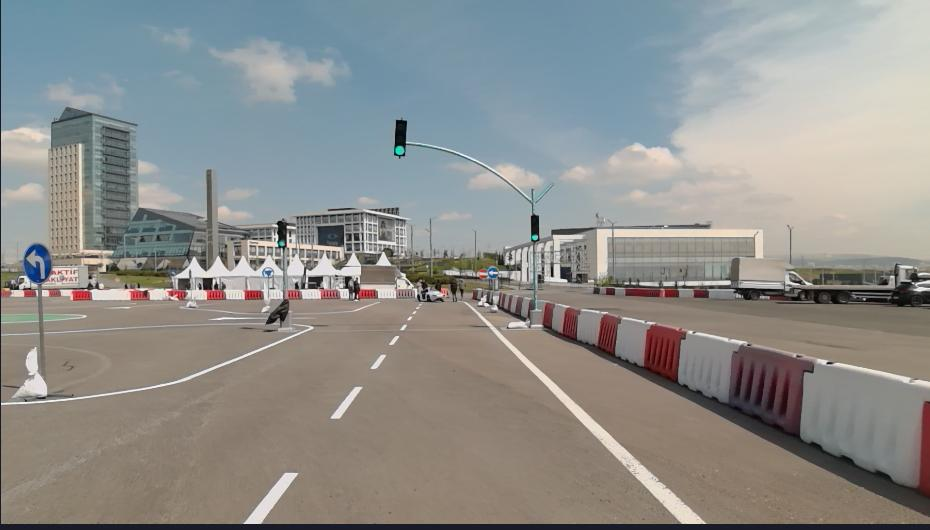nesne: (0, 297, 703, 529), (238, 298, 702, 526), (0, 299, 424, 529), (542, 302, 927, 501), (463, 299, 704, 525), (0, 322, 314, 405), (799, 356, 926, 483), (408, 140, 555, 213), (725, 337, 807, 437), (676, 327, 736, 401), (810, 263, 928, 298), (14, 346, 76, 402), (730, 256, 809, 298), (242, 468, 297, 526), (643, 321, 683, 382), (612, 317, 650, 368), (912, 382, 928, 499), (71, 288, 187, 300), (22, 244, 53, 284), (328, 384, 362, 418), (595, 314, 620, 359), (576, 311, 605, 346), (357, 284, 418, 299), (195, 287, 265, 300), (899, 276, 929, 305), (264, 298, 293, 324), (663, 288, 742, 297), (37, 282, 44, 383), (392, 118, 408, 158), (550, 304, 568, 339), (564, 308, 580, 342), (90, 289, 131, 301), (531, 240, 537, 301), (281, 246, 288, 298), (528, 213, 540, 243), (414, 275, 427, 300), (428, 284, 444, 304), (707, 288, 739, 298), (276, 218, 287, 246), (510, 318, 535, 330), (280, 311, 294, 332), (530, 306, 544, 326), (348, 276, 360, 299), (370, 352, 387, 368), (625, 287, 659, 295), (449, 276, 459, 303), (130, 288, 148, 302), (544, 304, 554, 329), (148, 289, 166, 302), (300, 288, 321, 299), (71, 289, 90, 301), (378, 286, 397, 298), (676, 287, 694, 299), (166, 290, 187, 300), (206, 290, 225, 301), (245, 288, 264, 299), (226, 289, 246, 299), (507, 294, 517, 314), (514, 297, 523, 319), (521, 297, 530, 318), (187, 265, 192, 302), (458, 276, 466, 299), (320, 288, 338, 298), (357, 288, 377, 297), (185, 293, 197, 307), (486, 297, 497, 312), (261, 266, 274, 278), (477, 268, 489, 281), (396, 288, 413, 297), (657, 280, 665, 298), (192, 289, 205, 300), (286, 288, 301, 297), (489, 266, 499, 279), (261, 298, 270, 312), (502, 292, 509, 310), (21, 288, 36, 296), (388, 333, 400, 343), (498, 292, 505, 309), (664, 289, 678, 297), (58, 289, 71, 297), (481, 280, 485, 306), (266, 277, 270, 302), (338, 289, 348, 299), (0, 288, 11, 297), (9, 289, 21, 297), (603, 288, 616, 295), (693, 289, 708, 295), (614, 288, 626, 295), (492, 279, 495, 303), (49, 290, 59, 297), (169, 294, 180, 300), (592, 287, 600, 294), (39, 290, 49, 295), (598, 286, 604, 293)
